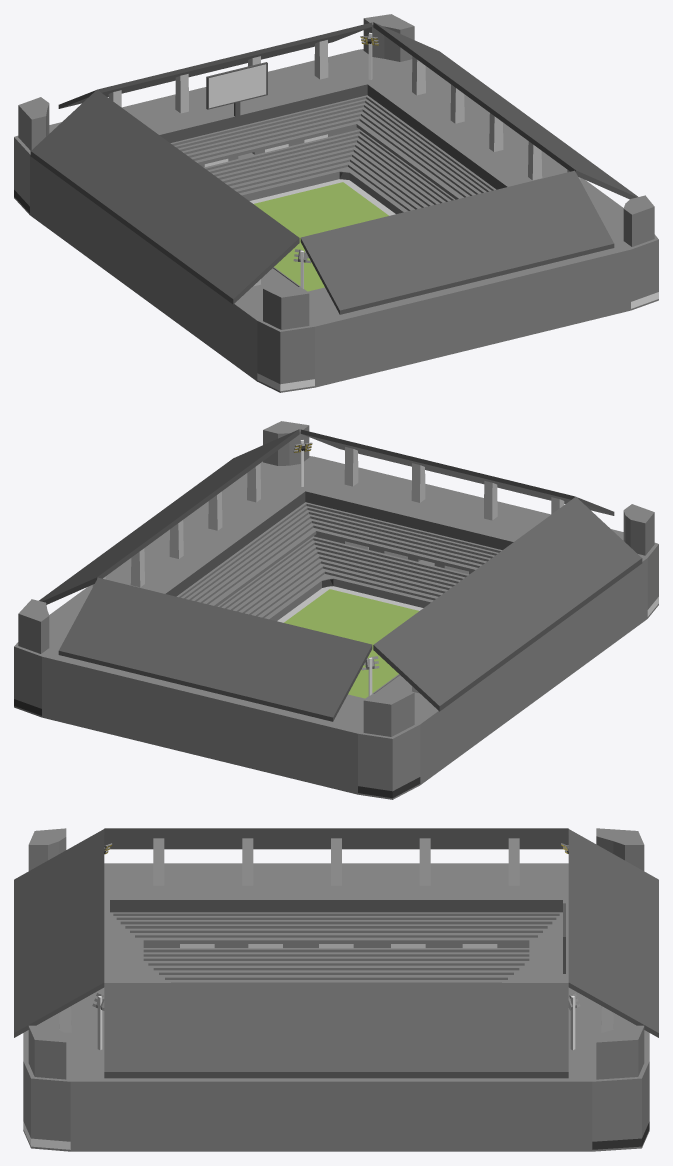
Rendered from LowPolySoccerStadium.fbx.
The picture shows the model from 3 angles, top to bottom: view 1: azimuth 30°, elevation 25°; view 2: azimuth 150°, elevation 25°; view 3: azimuth 270°, elevation 25°; orthographic projection. The views are drawn at different scales.
Parts seen in each view (by area): view 1: Stadium; view 2: Stadium; view 3: Stadium.
Boxes of the visible parts, x1,y1,x2,y2 form: Stadium: (14, 14, 658, 392); Stadium: (14, 421, 658, 799); Stadium: (14, 828, 658, 1151).
Size of the model in its own units: 396 by 472 by 111.
